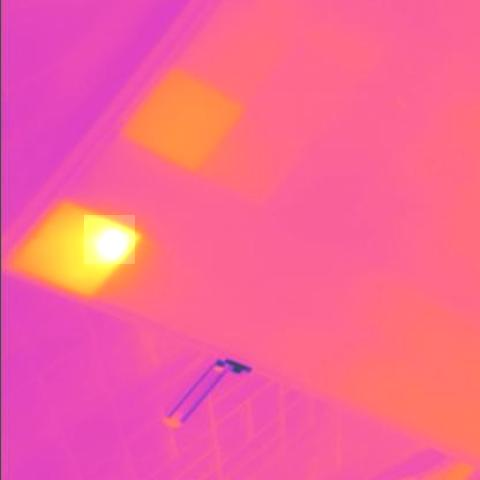fault: (84, 215, 135, 264)
